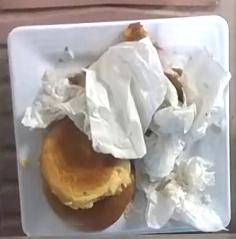bun: (39, 116, 134, 230)
